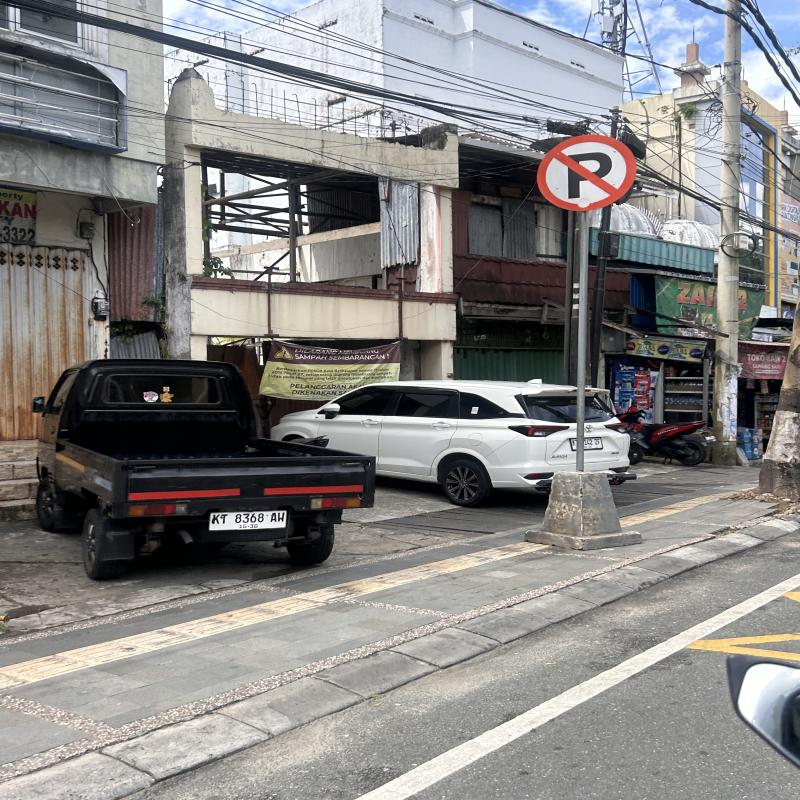license plate on a car: (210, 511, 288, 530), (571, 438, 602, 449)
